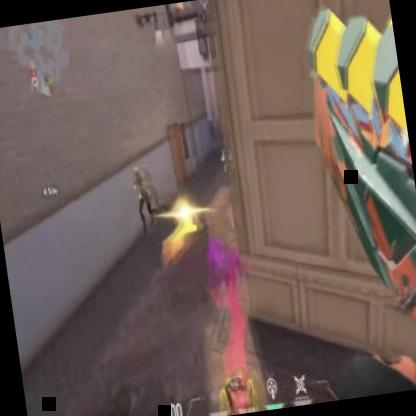enemy: (130, 164, 158, 232), (219, 140, 242, 202)
enemy_head: (132, 166, 140, 178)
